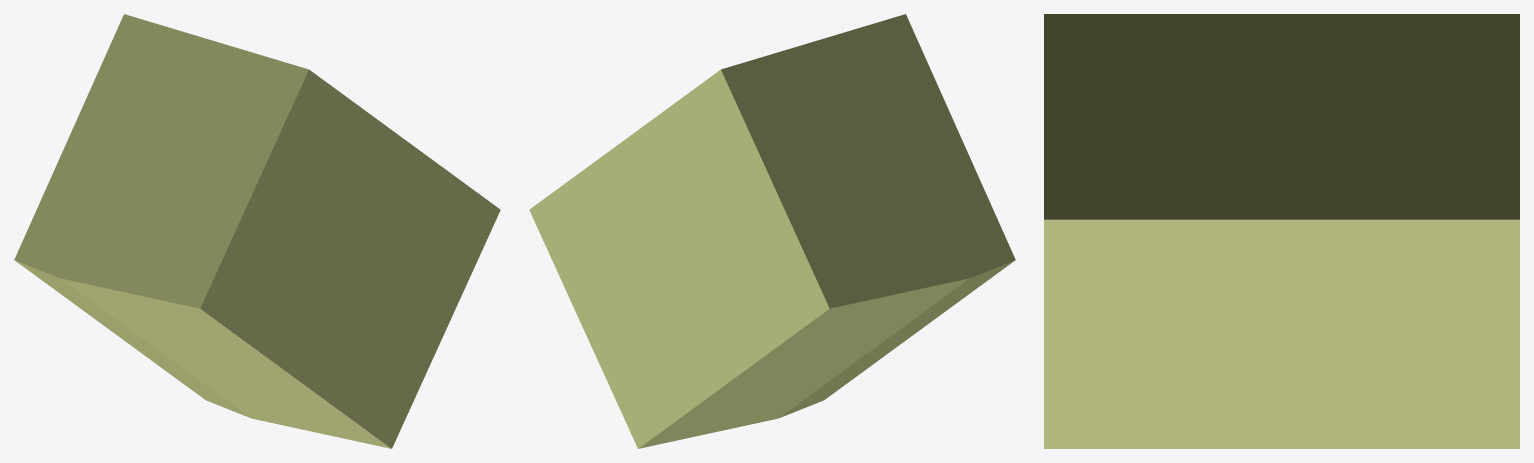
3 renders of one model, left to right at view 1: azimuth 30°, elevation 25°; view 2: azimuth 150°, elevation 25°; view 3: azimuth 270°, elevation 25°, orthographic. The views are drawn at different scales.
Parts seen in each view (by area): view 1: 0_1_0_0_1_3_0_2_1_0; view 2: 0_1_0_0_1_3_0_2_1_0; view 3: 0_1_0_0_1_3_0_2_1_0.
Boxes of the visible parts, left/top/right/bottom form: 0_1_0_0_1_3_0_2_1_0: left=14, top=14, right=500, bottom=448; 0_1_0_0_1_3_0_2_1_0: left=529, top=14, right=1015, bottom=448; 0_1_0_0_1_3_0_2_1_0: left=1044, top=14, right=1519, bottom=448.
Bounding box in the file's own units: 5.33 × 5.41 × 6.
